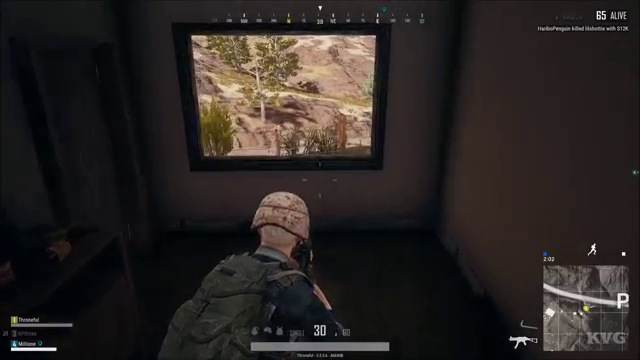Player: (160, 181, 357, 320)
